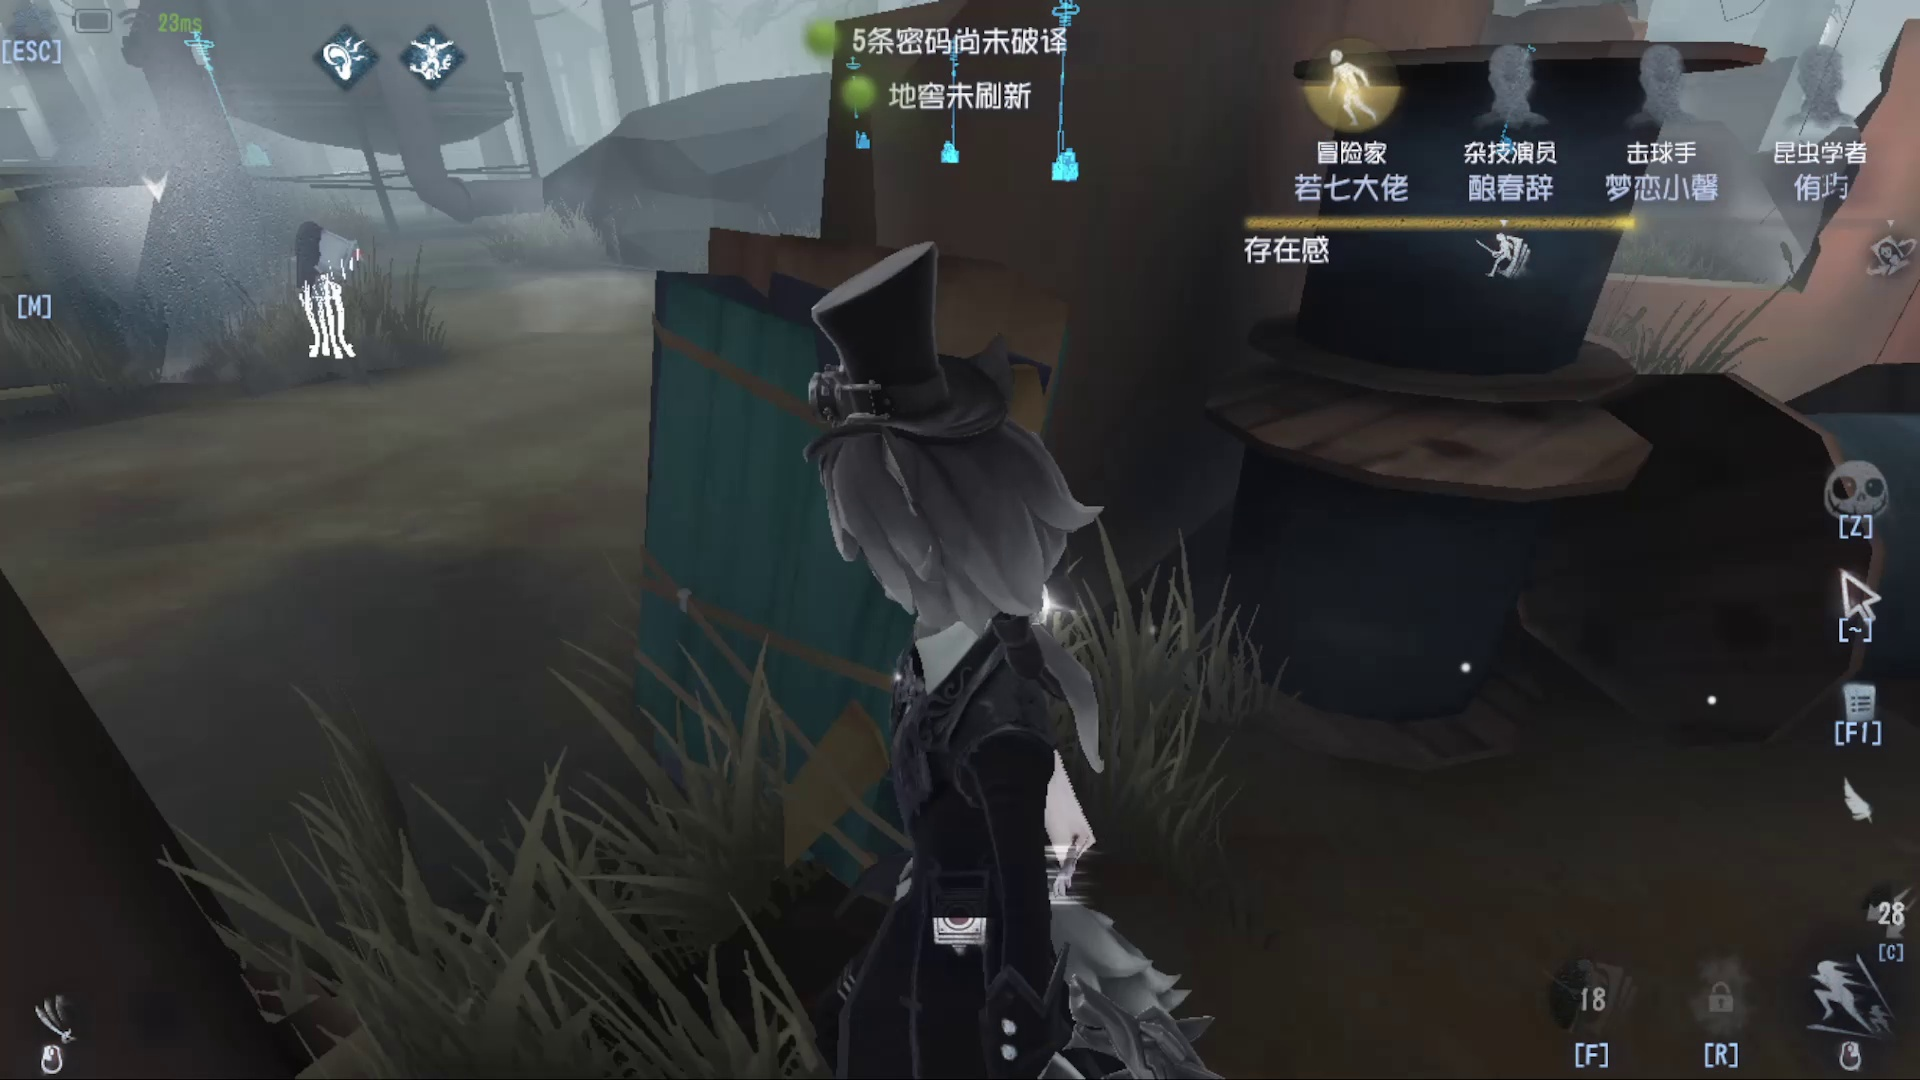密码机: (1029, 7, 1098, 211), (930, 32, 984, 171), (843, 50, 884, 156)
木板: (625, 229, 988, 814)
